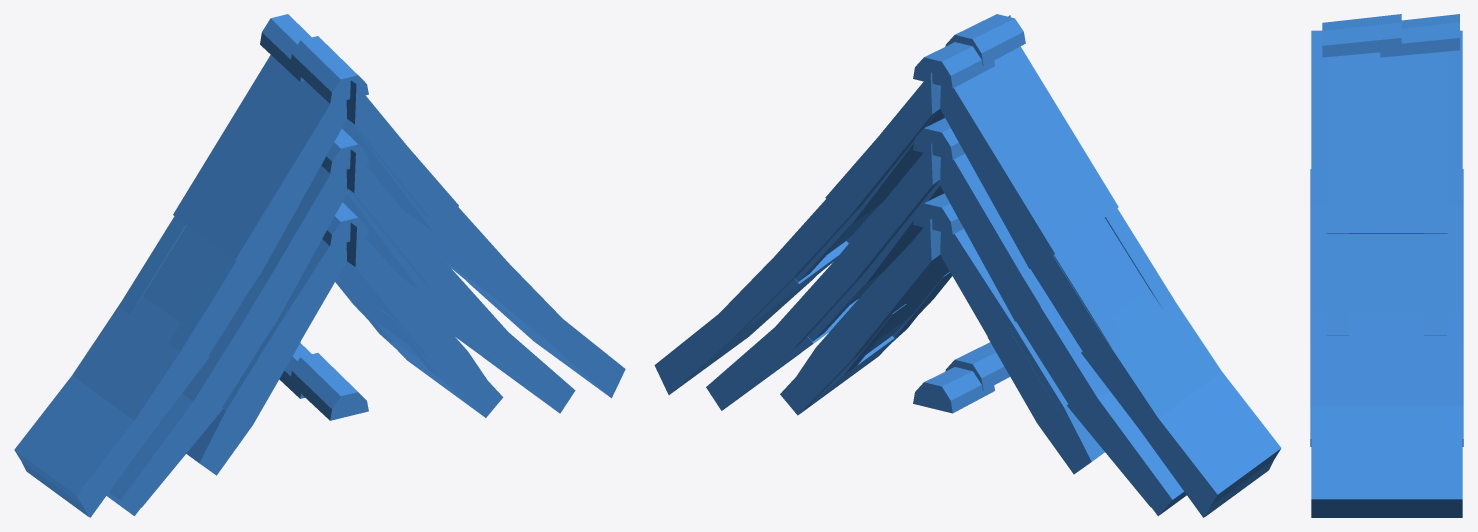
The model's file is Collision_Roof_Modular_RoundTiles.fbx.
3 renders of one model, left to right at view 1: azimuth 30°, elevation 25°; view 2: azimuth 150°, elevation 25°; view 3: azimuth 270°, elevation 25°, orthographic. The views are drawn at different scales.
Parts seen in each view (by area): view 1: UCX_Roof_Modular_RoundTiles_8_Dormer_01, UCX_Roof_Modular_RoundTiles_6_Dormer_01, UCX_Roof_Modular_RoundTiles_8_R_01, UCX_Roof_Modular_RoundTiles_8_K_Half_1, UCX_Roof_Modular_RoundTiles_4_Dormer_01, UCX_Roof_Modular_RoundTiles_6_L_Half_1, UCX_Roof_Modular_RoundTiles_4_L_Half_1, UCX_Roof_Modular_RoundTiles_6_L_01, UCX_Roof_Modular_RoundTiles_1, UCX_Roof_Modular_RoundTiles_4_R_01, UCX_Roof_Modular_RoundTiles_4_R_Half_1, UCX_Roof_Modular_RoundTiles_8_R_Half_1; view 2: UCX_Roof_Modular_RoundTiles_8_Dormer_01, UCX_Roof_Modular_RoundTiles_8_R_01, UCX_Roof_Modular_RoundTiles_8_R_Half_1, UCX_Roof_Modular_RoundTiles_6_Dormer_01, UCX_Roof_Modular_RoundTiles_6_R_Half_1, UCX_Roof_Modular_RoundTiles_4_Dormer_01, UCX_Roof_Modular_RoundTiles_6_L_01, UCX_Roof_Modular_RoundTiles_4_R_Half_1, UCX_Roof_Modular_RoundTiles_4_R_01, UCX_Roof_Modular_RoundTiles_1; view 3: UCX_Roof_Modular_RoundTiles_8_Dormer_01, UCX_Roof_Modular_RoundTiles_8_K_Half_1, UCX_Roof_Modular_RoundTiles_8_R_01, UCX_Roof_Modular_RoundTiles_8_R_Half_1, UCX_Roof_Modular_RoundTiles_4_R_Half_1, UCX_Roof_Modular_RoundTiles_4_L_Half_1.
Part boxes in pixels (box(x1,y1,x2,y2)): UCX_Roof_Modular_RoundTiles_8_Dormer_01: box(14, 14, 596, 517); UCX_Roof_Modular_RoundTiles_6_Dormer_01: box(127, 145, 545, 507); UCX_Roof_Modular_RoundTiles_8_R_01: box(21, 225, 224, 516); UCX_Roof_Modular_RoundTiles_8_K_Half_1: box(347, 80, 625, 398); UCX_Roof_Modular_RoundTiles_4_Dormer_01: box(186, 239, 486, 475); UCX_Roof_Modular_RoundTiles_6_L_Half_1: box(347, 150, 575, 413); UCX_Roof_Modular_RoundTiles_4_L_Half_1: box(347, 223, 503, 417); UCX_Roof_Modular_RoundTiles_6_L_01: box(106, 128, 549, 515); UCX_Roof_Modular_RoundTiles_1: box(279, 343, 368, 420); UCX_Roof_Modular_RoundTiles_4_R_01: box(291, 202, 409, 345); UCX_Roof_Modular_RoundTiles_4_R_Half_1: box(335, 245, 420, 365); UCX_Roof_Modular_RoundTiles_8_R_Half_1: box(346, 100, 600, 390); UCX_Roof_Modular_RoundTiles_8_Dormer_01: box(732, 14, 1281, 517); UCX_Roof_Modular_RoundTiles_8_R_01: box(1033, 217, 1273, 516); UCX_Roof_Modular_RoundTiles_8_R_Half_1: box(654, 72, 940, 394); UCX_Roof_Modular_RoundTiles_6_Dormer_01: box(735, 129, 1165, 507); UCX_Roof_Modular_RoundTiles_6_R_Half_1: box(706, 143, 940, 410); UCX_Roof_Modular_RoundTiles_4_Dormer_01: box(797, 229, 1104, 474); UCX_Roof_Modular_RoundTiles_6_L_01: box(852, 118, 1186, 515); UCX_Roof_Modular_RoundTiles_4_R_Half_1: box(780, 218, 949, 415); UCX_Roof_Modular_RoundTiles_4_R_01: box(857, 193, 1058, 421); UCX_Roof_Modular_RoundTiles_1: box(913, 342, 1009, 413); UCX_Roof_Modular_RoundTiles_8_Dormer_01: box(1322, 14, 1459, 517); UCX_Roof_Modular_RoundTiles_8_K_Half_1: box(1311, 30, 1447, 517); UCX_Roof_Modular_RoundTiles_8_R_01: box(1326, 234, 1447, 405); UCX_Roof_Modular_RoundTiles_8_R_Half_1: box(1326, 30, 1462, 517); UCX_Roof_Modular_RoundTiles_4_R_Half_1: box(1462, 169, 1463, 446); UCX_Roof_Modular_RoundTiles_4_L_Half_1: box(1310, 169, 1311, 446).
Size of the model in its own units: 997 by 701 by 252.
